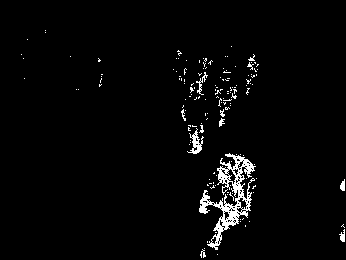person: (181, 81, 209, 155), (216, 66, 237, 127), (245, 52, 258, 95)
